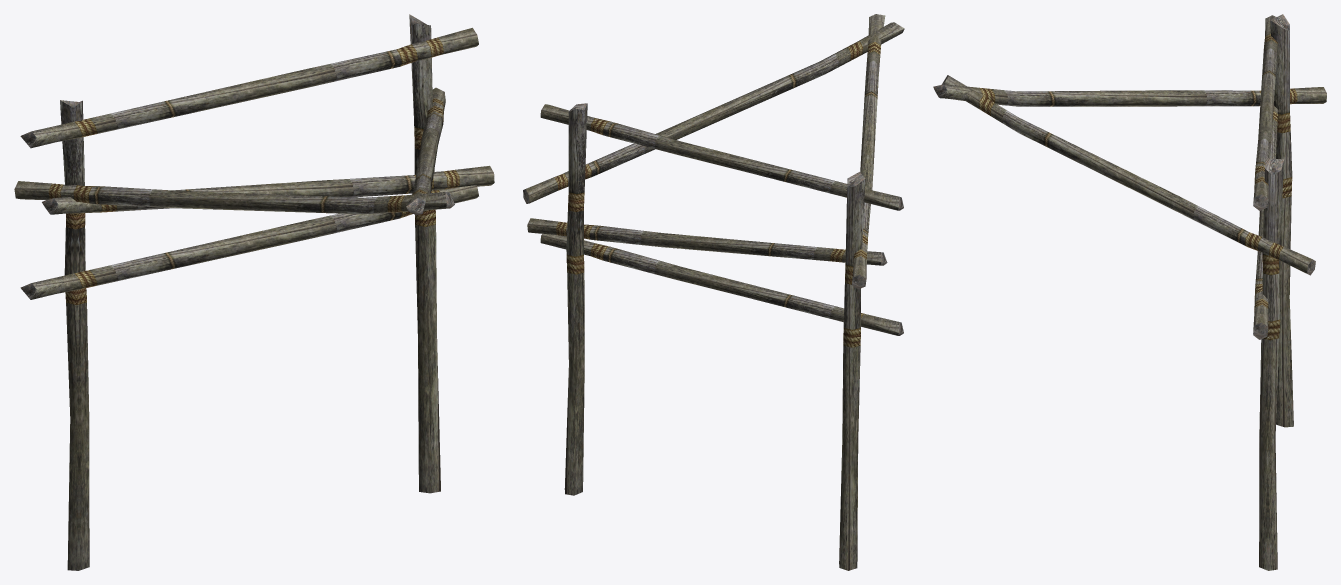
File: camp_manticore_obj00.fbx
3 views of the same model, side by side, from view 1: azimuth 30°, elevation 25°; view 2: azimuth 150°, elevation 25°; view 3: azimuth 270°, elevation 25° (orthographic). The views are drawn at different scales.
Visible parts, largest first — view 1: camp_manticore_obj00; view 2: camp_manticore_obj00; view 3: camp_manticore_obj00.
Boxes of the visible parts, left/top/right/bottom form: camp_manticore_obj00: left=14, top=14, right=494, bottom=570; camp_manticore_obj00: left=523, top=14, right=904, bottom=570; camp_manticore_obj00: left=933, top=14, right=1326, bottom=570.
Bounding box in the file's own units: 10.99 × 11.05 × 9.62.
